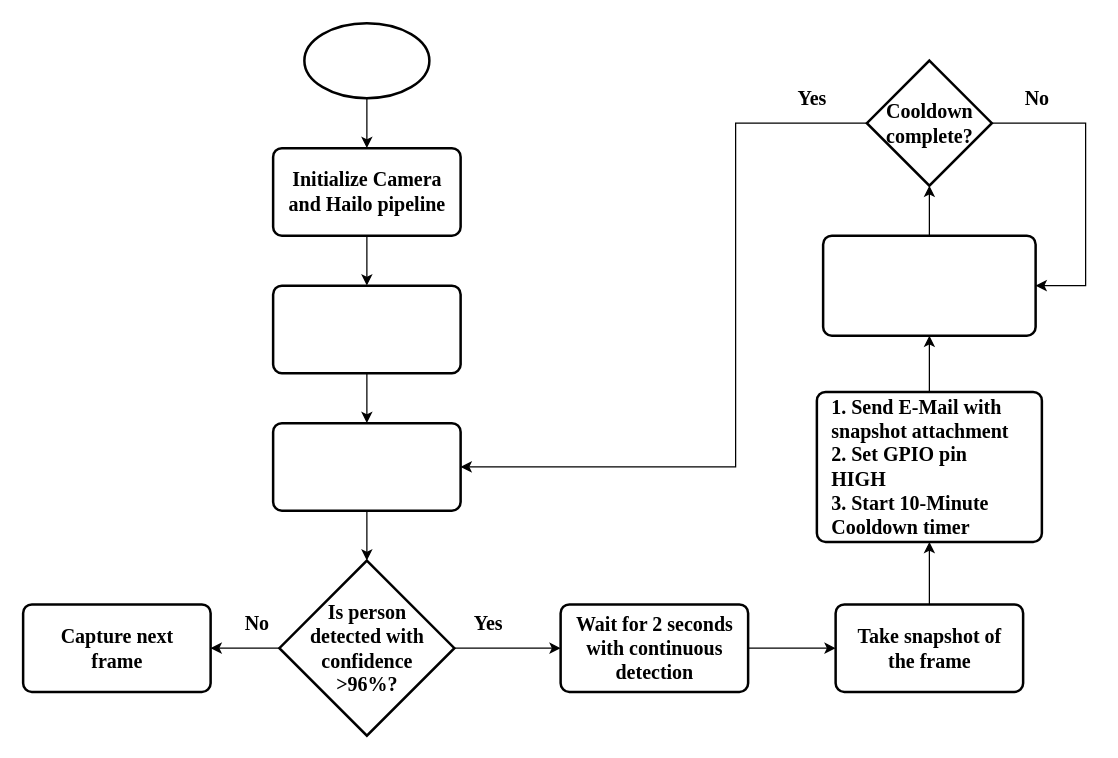
The diagram is 1118 pixels wide and 758 high, and some of its shapes have lost their labels. Here are the shapes that lost their labels. From the top down, the centre of each, then its label:
(x=366, y=60): Start
(x=928, y=285): During cooldown, show the live camera feed with bounding box, do not alert
(x=366, y=329): Capture Frame
(x=366, y=466): Run person detection on frame
